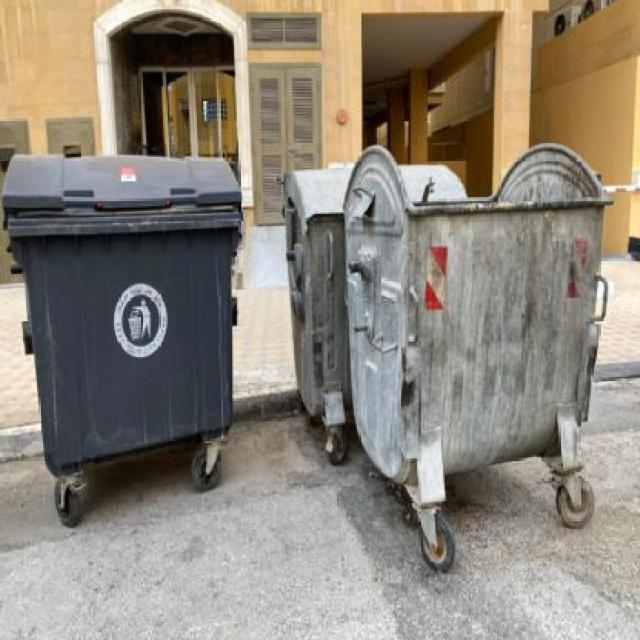garbage container: (2, 146, 251, 542)
